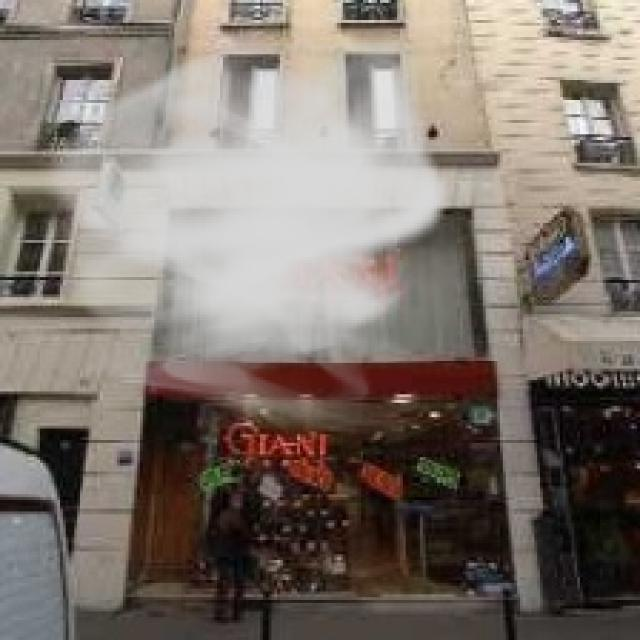smoke: (34, 29, 452, 437)
